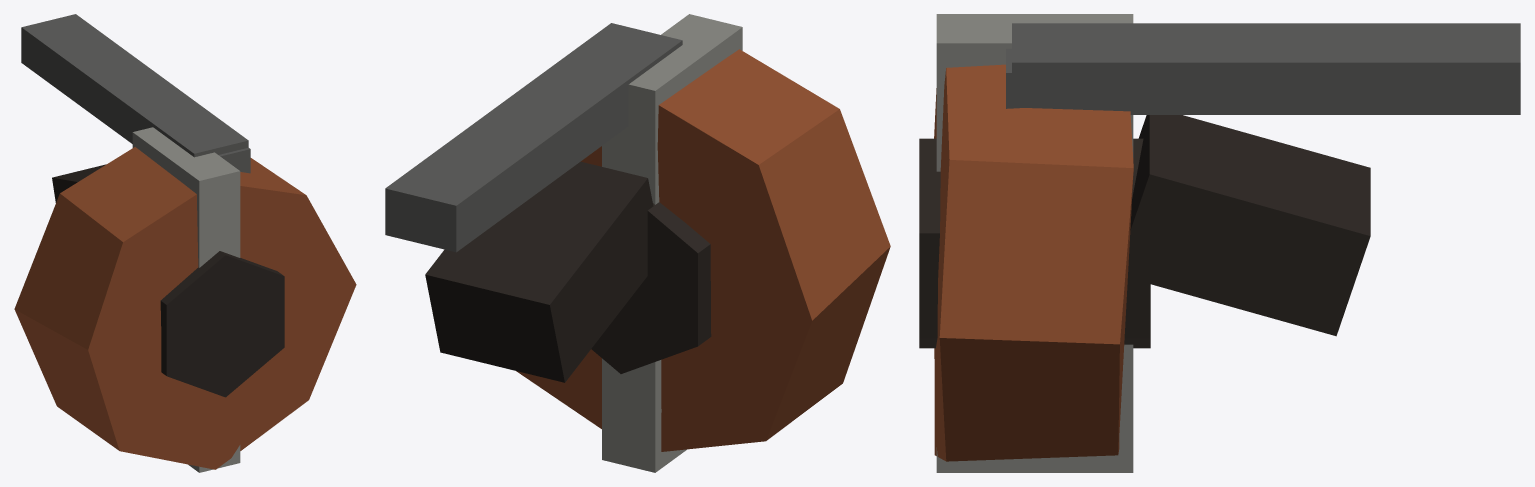
Rendered from wext_drum.glb.
3 renders of one model, left to right at view 1: azimuth 30°, elevation 25°; view 2: azimuth 150°, elevation 25°; view 3: azimuth 270°, elevation 25°, orthographic. The views are drawn at different scales.
Parts seen in each view (by area): view 1: wext_drum; view 2: wext_drum; view 3: wext_drum.
Part boxes in pixels (bbox=[...]): wext_drum: bbox=[14, 14, 356, 472]; wext_drum: bbox=[385, 14, 890, 472]; wext_drum: bbox=[919, 14, 1520, 472].
Bounding box in the file's own units: 0.2037 × 0.2077 × 0.26.
